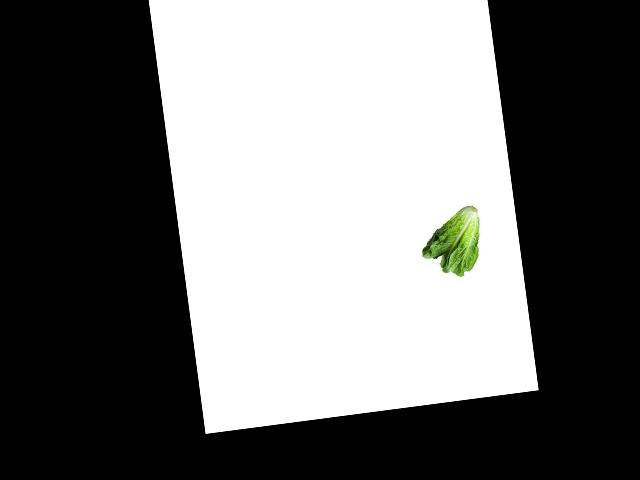lettuce: (413, 206, 489, 281)
